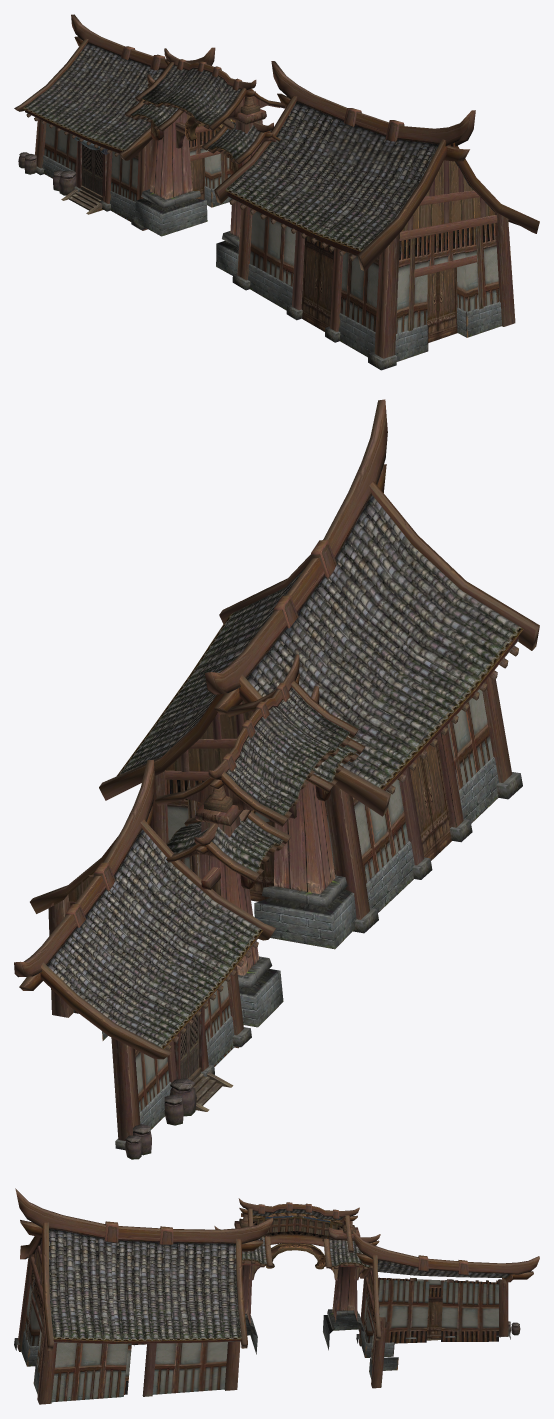
File: choose3_jianzhu01_56_11_3865out.fbx
3 renders of one model, top to bottom at view 1: azimuth 30°, elevation 25°; view 2: azimuth 150°, elevation 25°; view 3: azimuth 270°, elevation 25°, orthographic. The views are drawn at different scales.
Visible parts, largest first — view 1: choose3_jianzhu01; view 2: choose3_jianzhu01; view 3: choose3_jianzhu01.
Part boxes in pixels (x1,y1,x2,y2): choose3_jianzhu01: (14, 14, 539, 370); choose3_jianzhu01: (14, 399, 539, 1159); choose3_jianzhu01: (14, 1188, 539, 1404).
Bounding box in the file's own units: 1.72 × 1.68 × 3.94.
